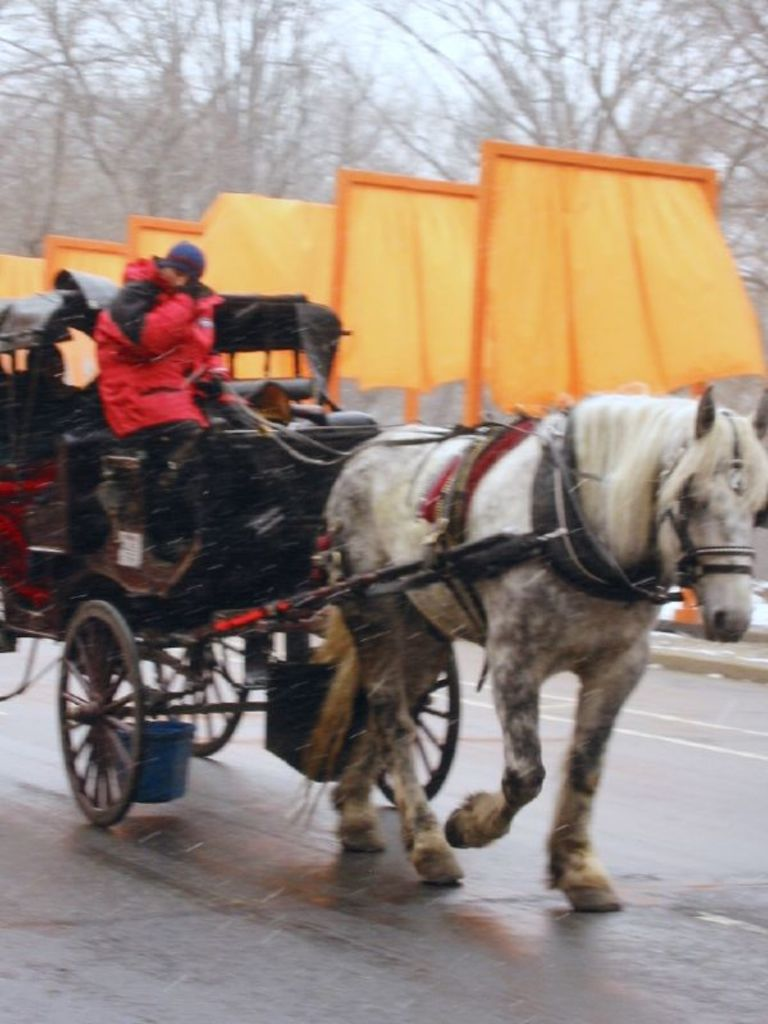horse: (281, 379, 767, 914)
